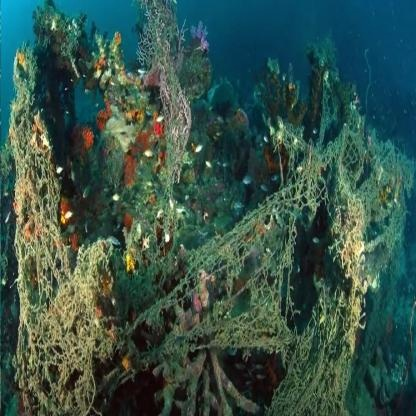net: (41, 130, 416, 416)
